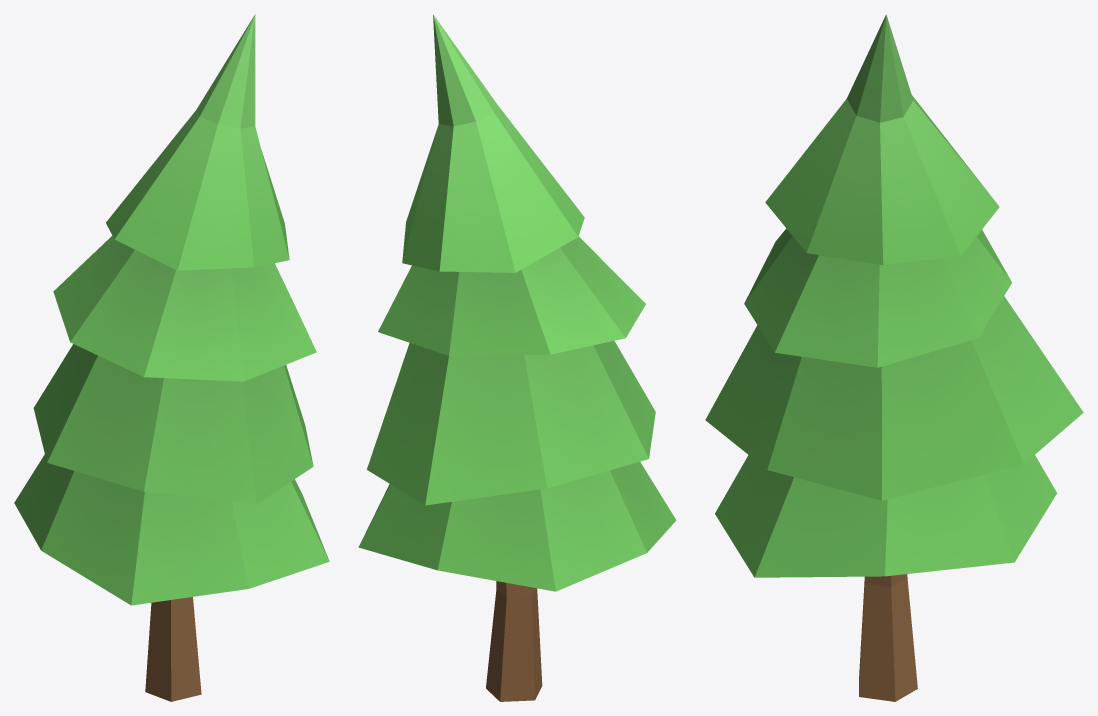
The model's file is Fir_Tree_OneSided_m_06.fbx.
3 views of the same model, side by side, from view 1: azimuth 30°, elevation 25°; view 2: azimuth 150°, elevation 25°; view 3: azimuth 270°, elevation 25° (orthographic). The views are drawn at different scales.
Visible parts, largest first — view 1: Fir_Tree_OneSided_m_06; view 2: Fir_Tree_OneSided_m_06; view 3: Fir_Tree_OneSided_m_06.
Boxes of the visible parts, x1,y1,x2,y2 form: Fir_Tree_OneSided_m_06: (14, 14, 329, 701); Fir_Tree_OneSided_m_06: (358, 14, 676, 701); Fir_Tree_OneSided_m_06: (705, 14, 1083, 701).
Bounding box in the file's own units: 288 × 689 × 329.
